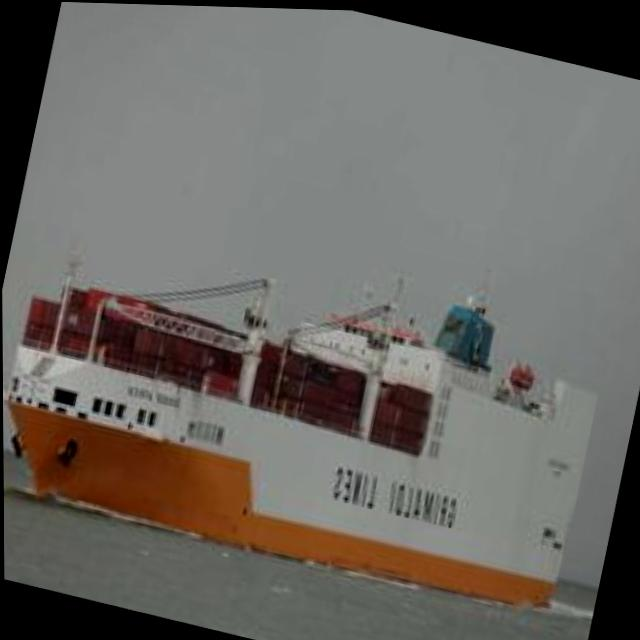ship2: (2, 240, 596, 607)
